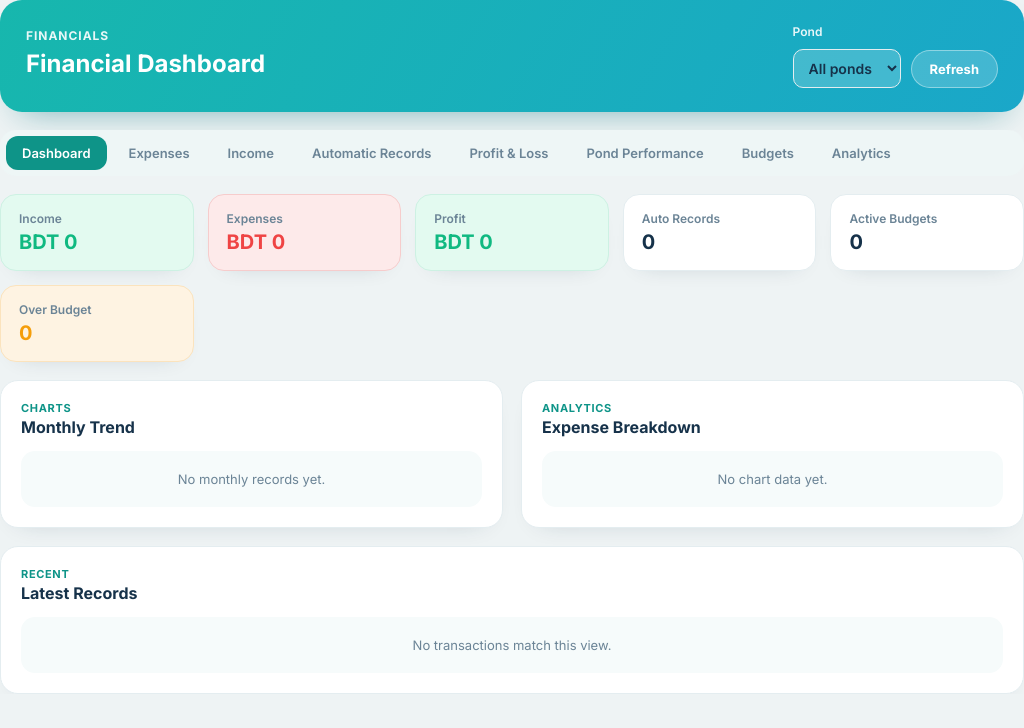
Test case: FinancialManagement › shows an error when saving an expense fails
The width and height of the screenshot is (1024, 728).
Expected: the heading "Financial Dashboard" is shown, x1=26 y1=49 x2=265 y2=78
Click the button "Expenses": (159, 153) x1=113 y1=136 x2=206 y2=170
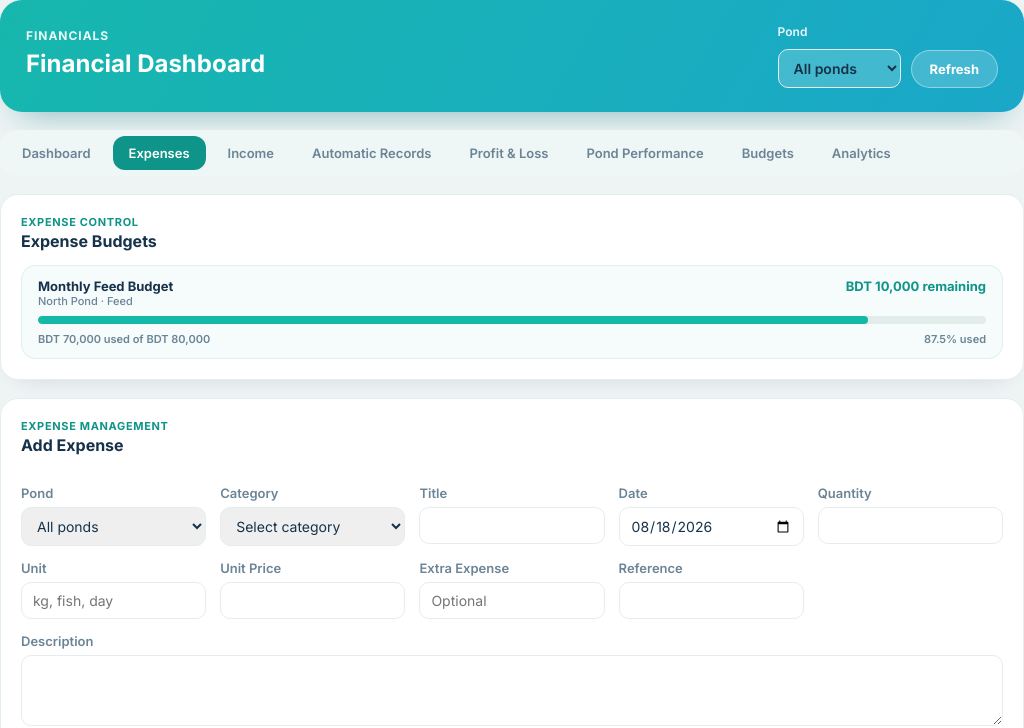
Select "Feed" in the dropdown labelled "Category": (313, 526) x1=220 y1=507 x2=405 y2=546
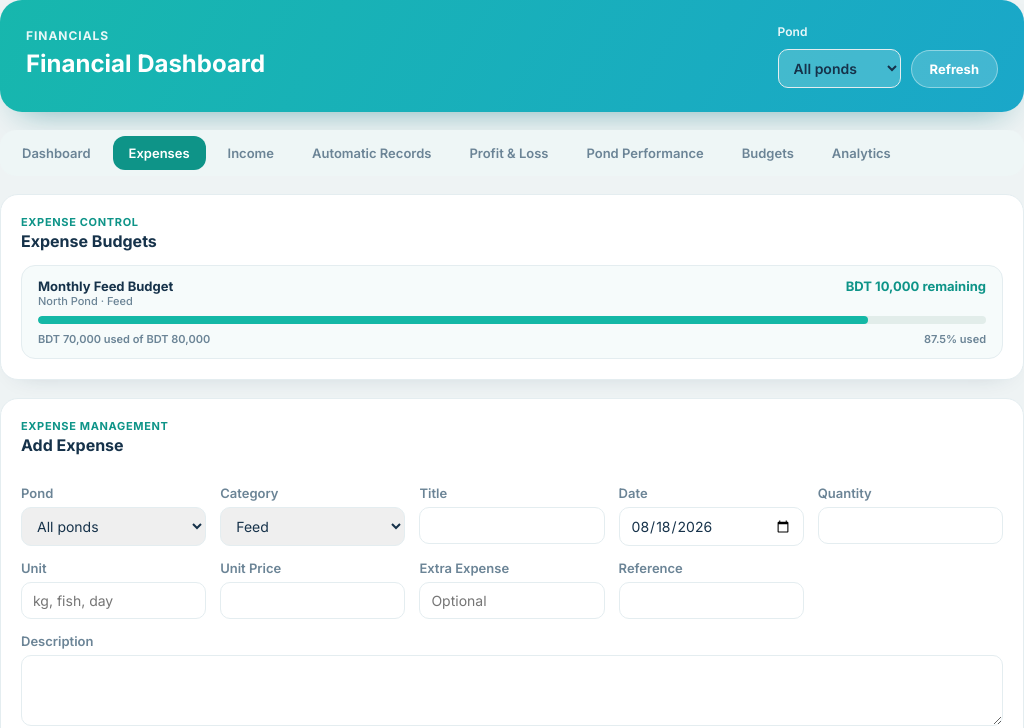
In the field labelled "Title": (512, 526) x1=419 y1=507 x2=605 y2=544, type "Failed expense"
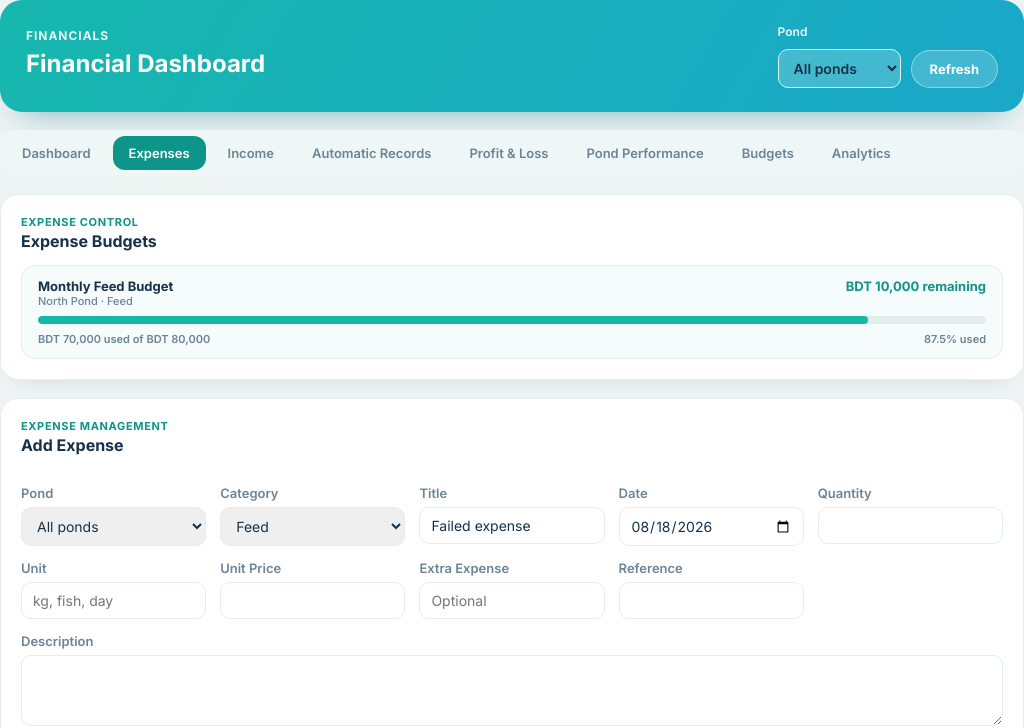
In the number field labelled "Extra Expense": (512, 600) x1=419 y1=582 x2=605 y2=619, type "100"
(page scrolled)
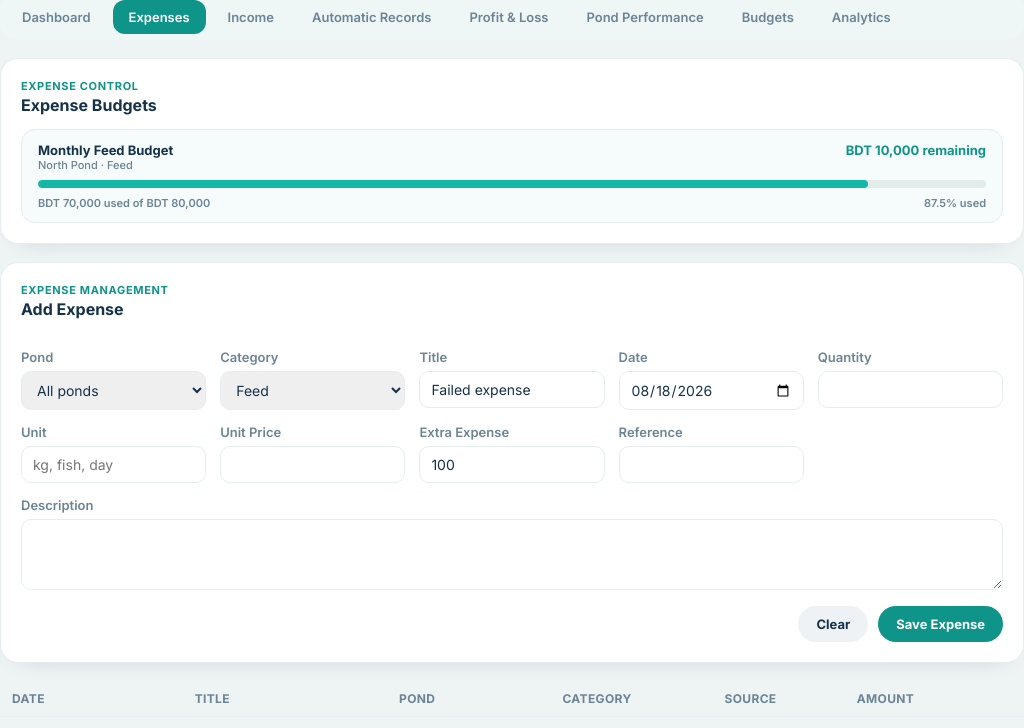
Click the button "Save Expense": (941, 624) x1=878 y1=606 x2=1003 y2=642
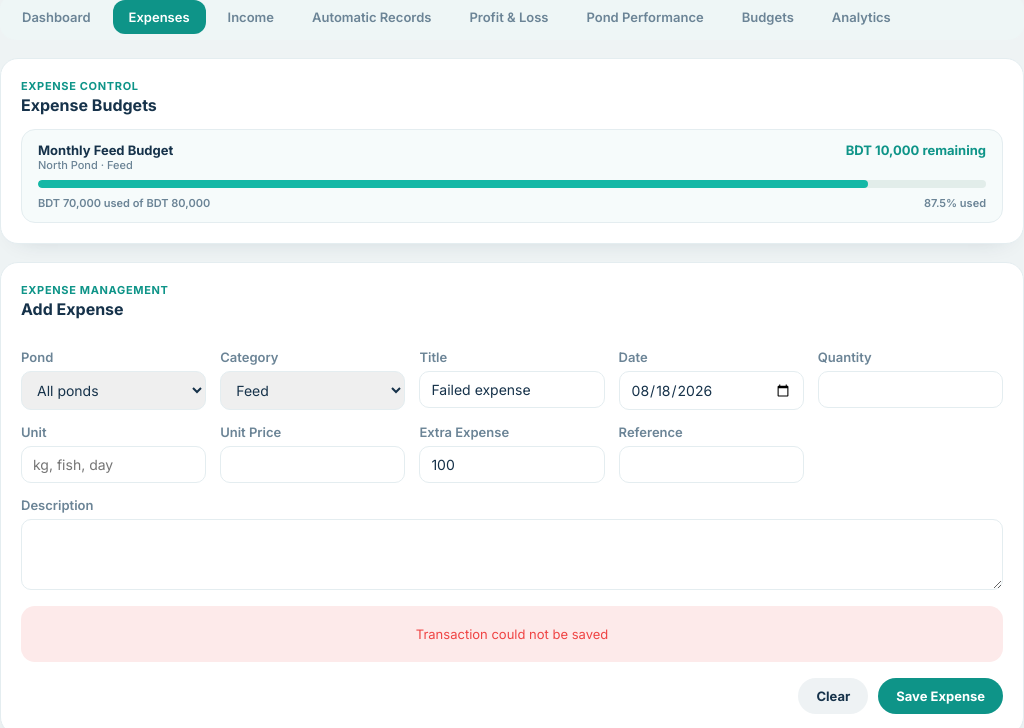
Expected: the text "Transaction could not be saved" is shown, x1=21 y1=606 x2=1003 y2=662
